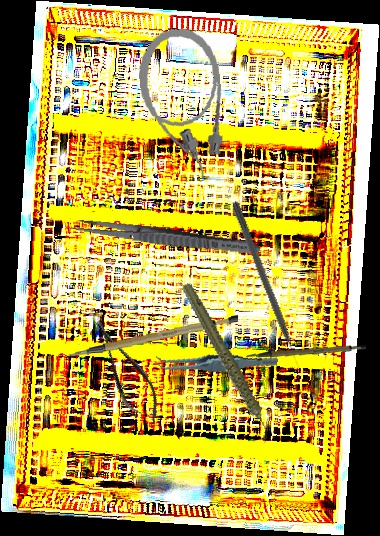Cannula: (134, 25, 231, 185)
Dressing Forceps: (70, 215, 261, 259)
Handpiece: (180, 272, 272, 454)
Micro Scissor: (83, 311, 170, 432)
Pusher: (229, 200, 303, 372)
Scalpel Handle: (66, 313, 240, 358), (246, 334, 367, 367)
Tissue Forceps: (153, 332, 279, 393)
